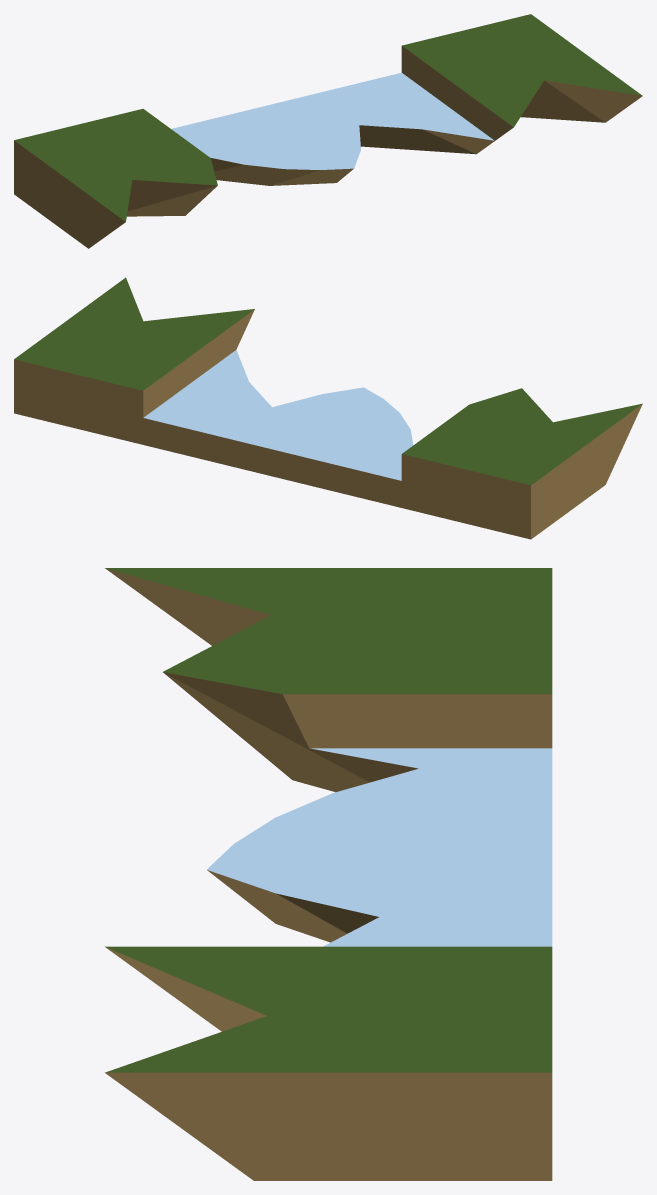
The model's file is Terrain_Modular_Tiles_Grass_Dirt_Cliff_Edge_River_Outer_04.fbx.
3 views of the same model, one above another, from view 1: azimuth 30°, elevation 25°; view 2: azimuth 150°, elevation 25°; view 3: azimuth 270°, elevation 25° (orthographic). The views are drawn at different scales.
Parts seen in each view (by area): view 1: Terrain_Modular_Tiles_Grass_Dirt_Cliff_Edge_River_Outer_04; view 2: Terrain_Modular_Tiles_Grass_Dirt_Cliff_Edge_River_Outer_04; view 3: Terrain_Modular_Tiles_Grass_Dirt_Cliff_Edge_River_Outer_04.
Boxes of the visible parts, box(x1,y1,x2,y2) form: Terrain_Modular_Tiles_Grass_Dirt_Cliff_Edge_River_Outer_04: box(14, 14, 642, 248); Terrain_Modular_Tiles_Grass_Dirt_Cliff_Edge_River_Outer_04: box(14, 277, 642, 539); Terrain_Modular_Tiles_Grass_Dirt_Cliff_Edge_River_Outer_04: box(105, 568, 552, 1180).
Bounding box in the file's own units: 118 × 11.81 × 44.29.
